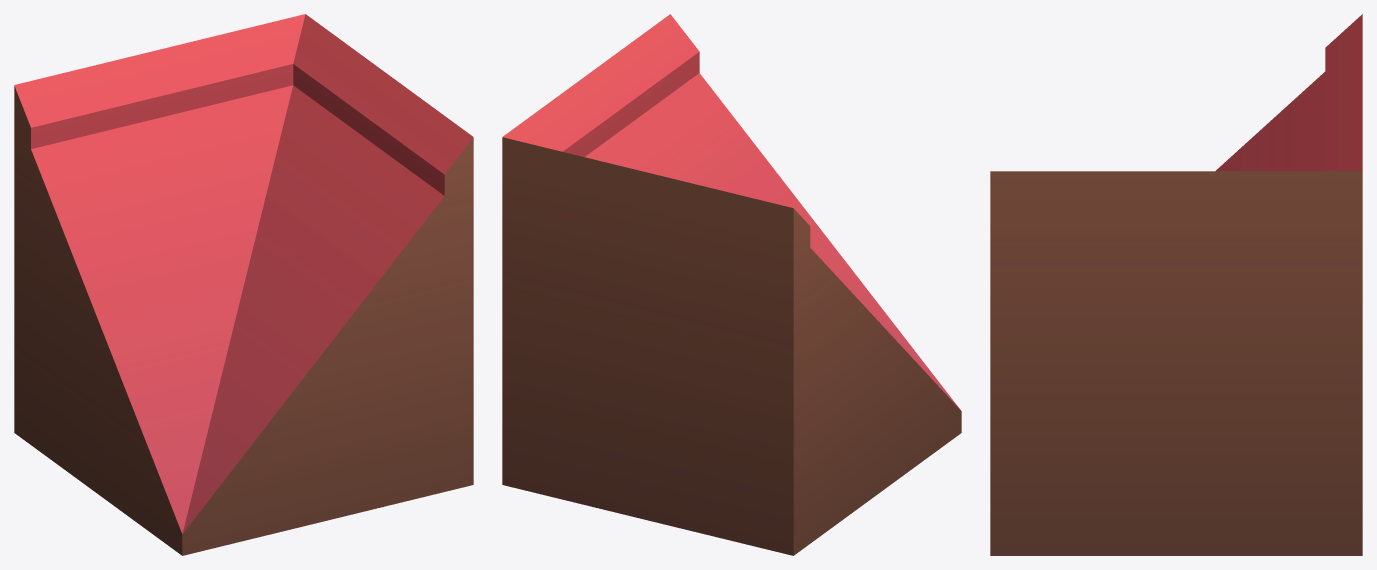
The model's file is roof-high-cornerinner.glb.
The picture shows the model from 3 angles, left to right: view 1: azimuth 30°, elevation 25°; view 2: azimuth 150°, elevation 25°; view 3: azimuth 270°, elevation 25°; orthographic projection. The views are drawn at different scales.
Parts seen in each view (by area): view 1: roof-high-cornerinner; view 2: roof-high-cornerinner; view 3: roof-high-cornerinner.
Boxes of the visible parts, x1,y1,x2,y2 form: roof-high-cornerinner: (14, 14, 473, 555); roof-high-cornerinner: (502, 14, 961, 555); roof-high-cornerinner: (990, 14, 1362, 555).
Bounding box in the file's own units: 1 × 1.14 × 1.
Materials: 1 (1 with a texture image).
